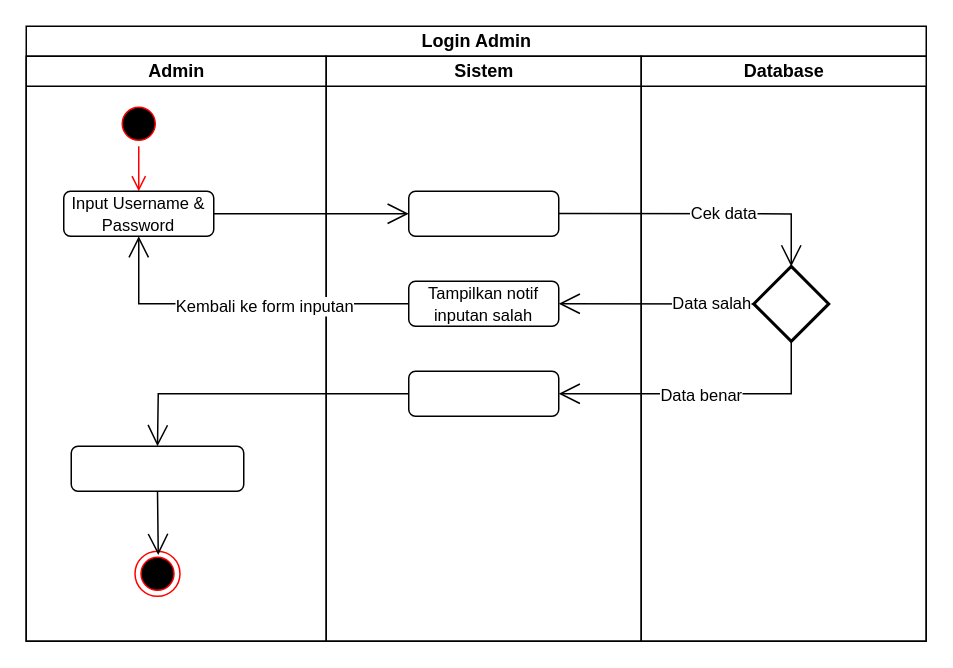
Some shapes in this 953 by 668 pixel diagram are drawn without their labels. Here are the shapes that lost their labels. From the top down, the centre of each, then its label:
At (483,213): "Mengecek data dari tabel admin".
At (483,393): "Tampilkan halaman kelolah admin".
At (157,468): "Mengelolah Halaman".
